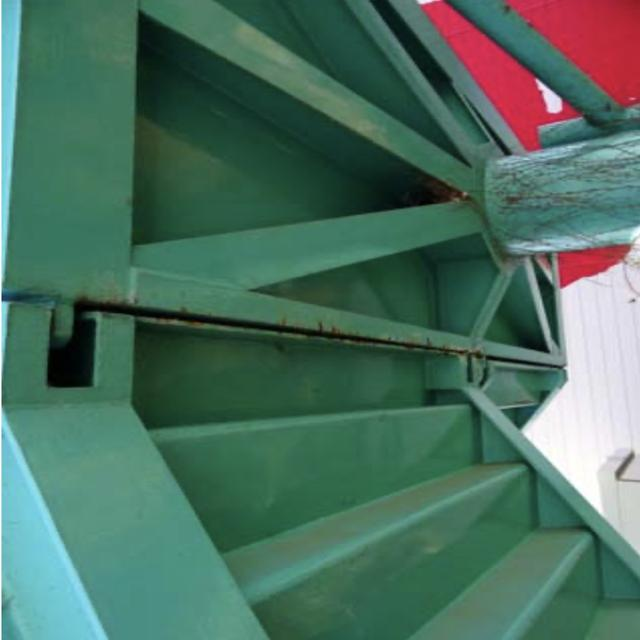corrosion: (84, 273, 573, 397)
